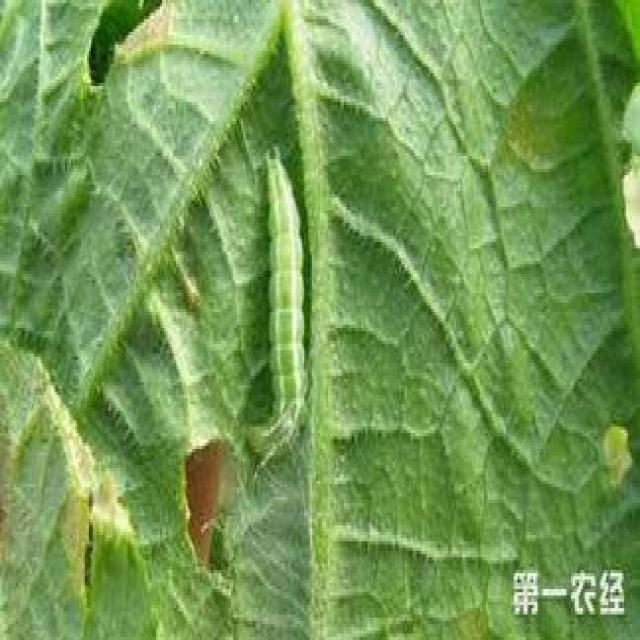BeetArmyWorm-Larva-: (258, 146, 319, 467)
